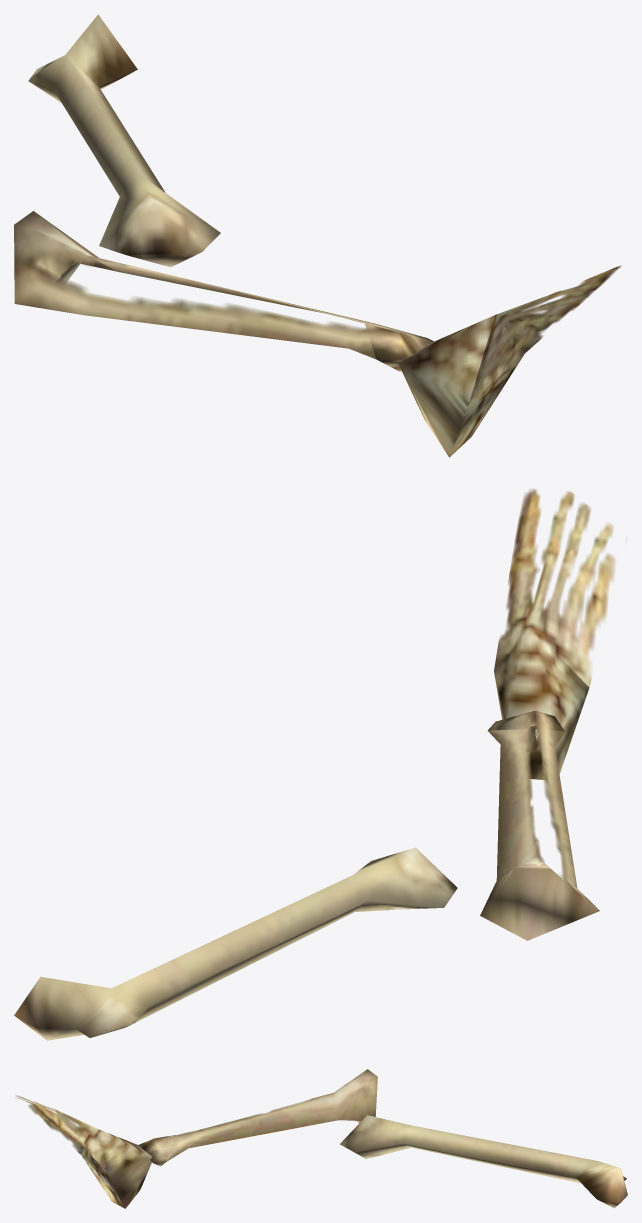
3 views of the same model, one above another, from view 1: azimuth 30°, elevation 25°; view 2: azimuth 150°, elevation 25°; view 3: azimuth 270°, elevation 25° (orthographic). The views are drawn at different scales.
Parts seen in each view (by area): view 1: d_sk_part7-col; view 2: d_sk_part7-col; view 3: d_sk_part7-col.
Boxes of the visible parts, <box> form: d_sk_part7-col: <box>14,14,621,457</box>; d_sk_part7-col: <box>14,489,615,1040</box>; d_sk_part7-col: <box>15,1069,627,1208</box>.
Bounding box in the file's own units: 0.3565 × 0.2136 × 0.9225.
Materials: 2 (2 with a texture image).
